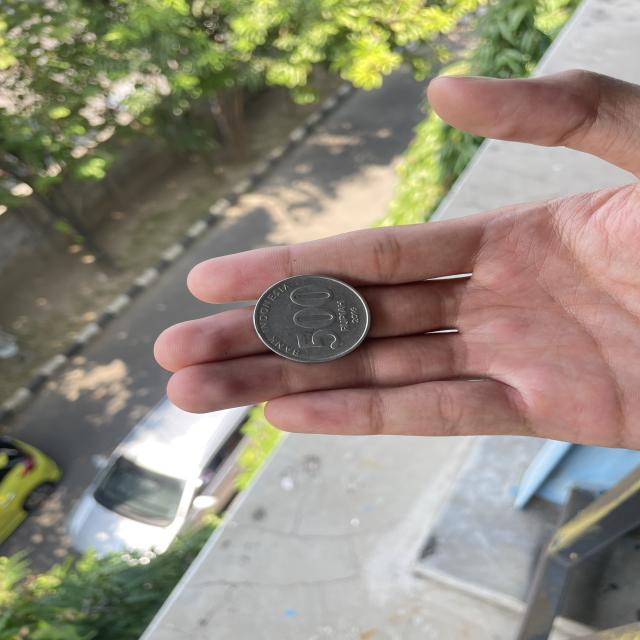500-kuning: (253, 275, 370, 362)
